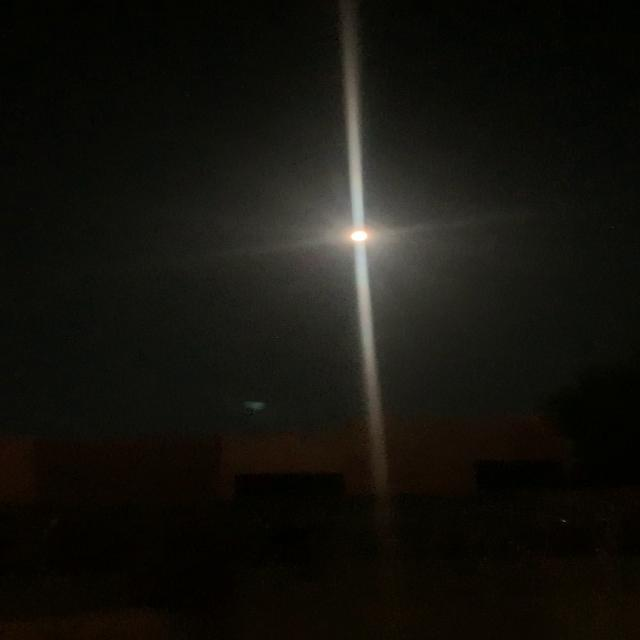moon: (324, 226, 386, 255)
